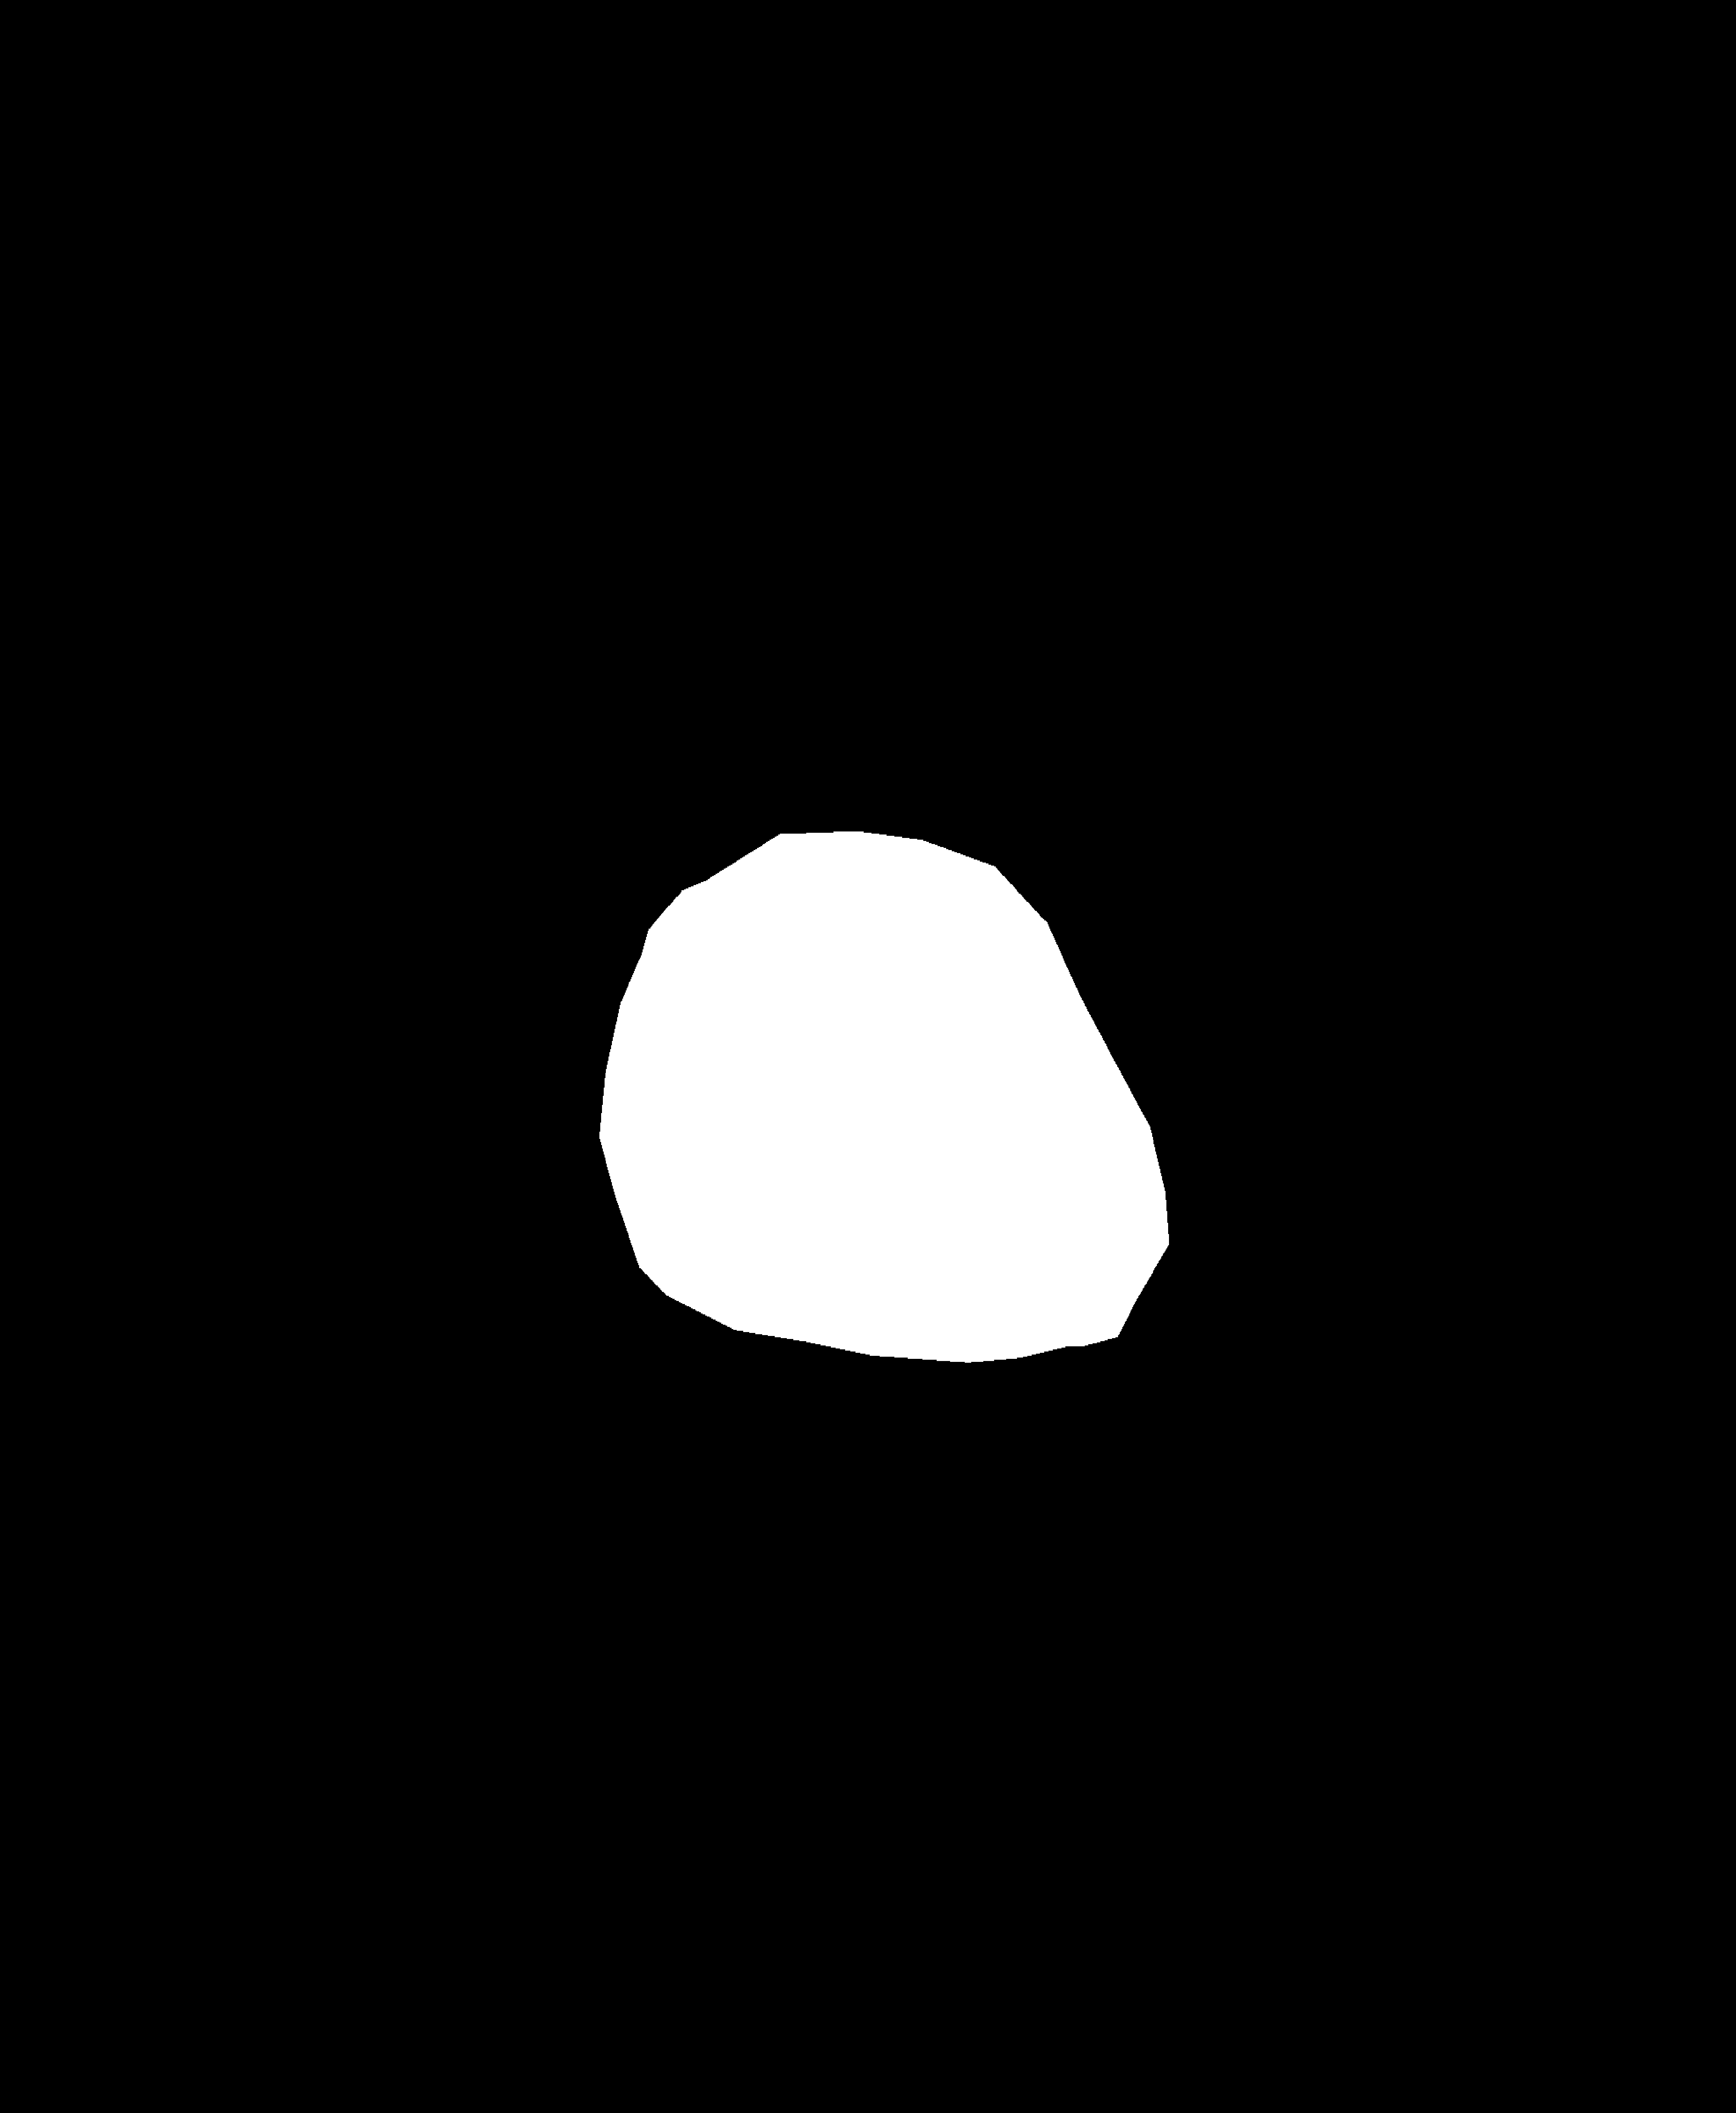heart: (606, 877, 1164, 1476)
left_lung: (226, 170, 769, 1353)
right_lung: (932, 139, 1499, 1544)
